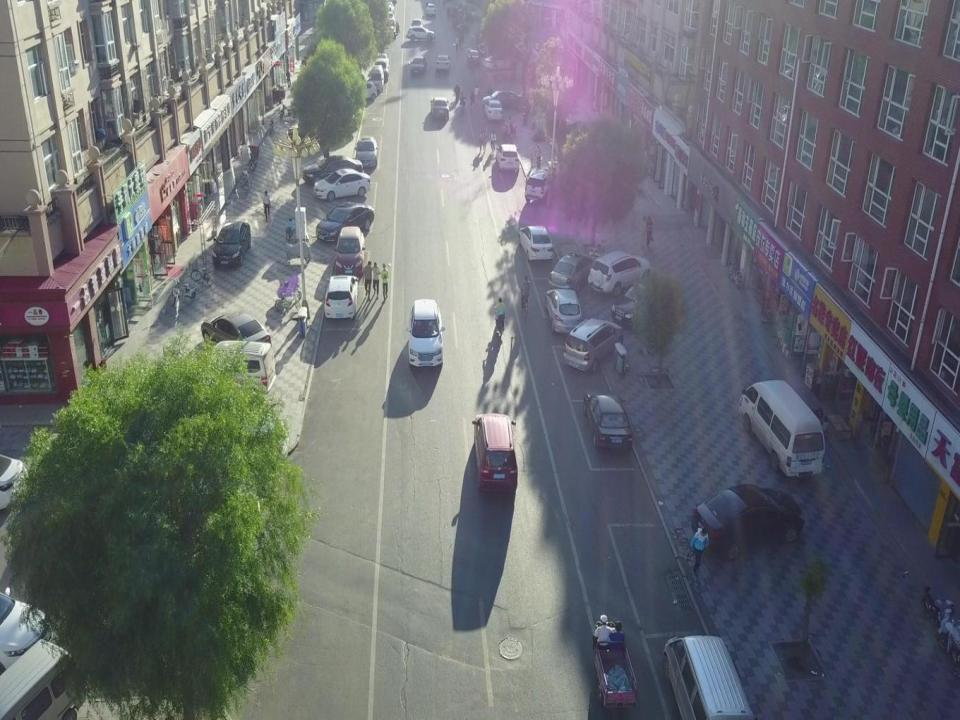car: (692, 484, 804, 559), (3, 640, 90, 720), (208, 342, 276, 401), (472, 413, 518, 493), (563, 317, 623, 373), (200, 309, 272, 354), (583, 391, 633, 452), (610, 284, 673, 330), (588, 252, 652, 296), (406, 298, 445, 368), (315, 201, 375, 242), (312, 168, 370, 200), (302, 156, 364, 184), (212, 222, 251, 266), (548, 253, 592, 291), (546, 289, 582, 333), (333, 226, 364, 277), (324, 275, 359, 318), (518, 226, 553, 262), (354, 136, 378, 168), (481, 92, 526, 109), (495, 144, 519, 171), (348, 82, 377, 100), (483, 56, 519, 70), (406, 26, 436, 42), (430, 97, 450, 119), (483, 99, 502, 120), (375, 57, 389, 83), (410, 56, 426, 74), (435, 54, 451, 70), (468, 50, 480, 67), (411, 18, 423, 31), (376, 54, 388, 66), (426, 3, 436, 15)
van: (738, 379, 825, 478), (664, 636, 753, 718), (369, 65, 384, 92)
